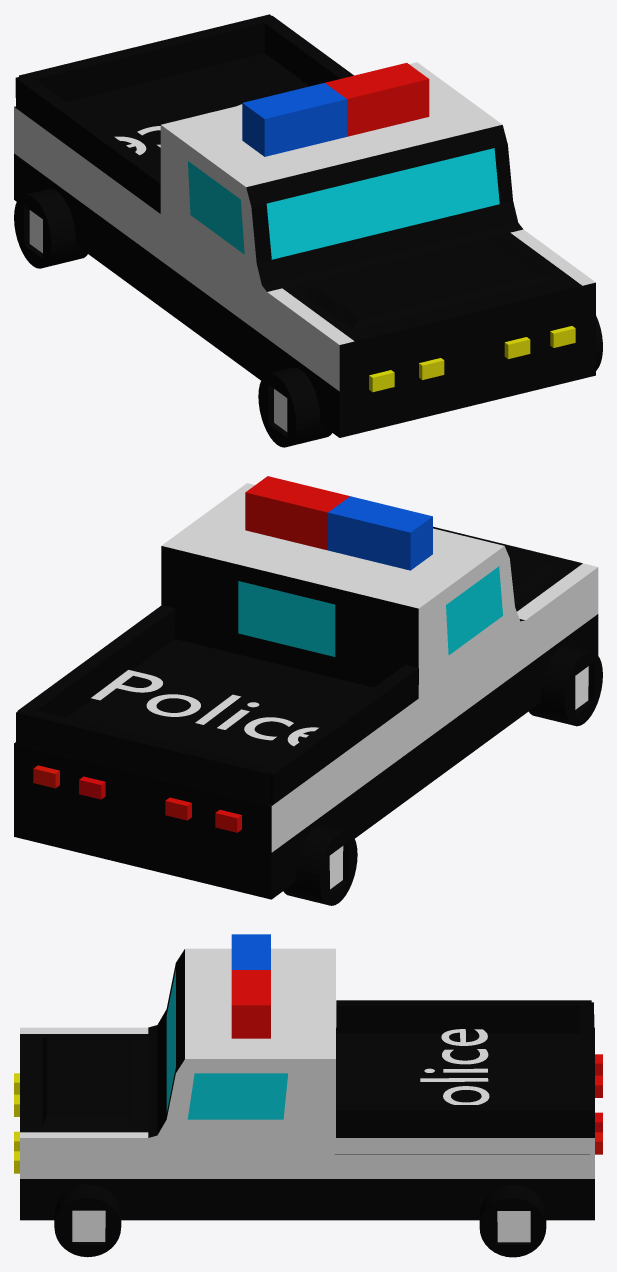
Rendered from police pick-up truck .fbx.
3 views of the same model, one above another, from view 1: azimuth 30°, elevation 25°; view 2: azimuth 150°, elevation 25°; view 3: azimuth 270°, elevation 25° (orthographic). The views are drawn at different scales.
Parts seen in each view (by area): view 1: Cube, Cube.012, Cube.003, Cube.001, Cylinder, Cylinder.003, Cube.002; view 2: Cube, Cube.003, Cube.001, Cube.002, Cylinder.003, Cylinder, Text, Cube.012; view 3: Cube, Cube.002, Cube.001, Cube.012, Cylinder.001, Cylinder.002, Text, Cube.003.
Boxes of the visible parts, left/top/right/bottom form: Cube: left=14, top=53, right=595, bottom=437; Cube.012: left=302, top=241, right=554, bottom=329; Cube.003: left=19, top=14, right=271, bottom=101; Cube.001: left=15, top=74, right=160, bottom=213; Cylinder: left=258, top=367, right=331, bottom=447; Cylinder.003: left=14, top=188, right=87, bottom=268; Cube.002: left=264, top=16, right=353, bottom=86; Cube: left=14, top=476, right=598, bottom=899; Cube.003: left=16, top=710, right=272, bottom=804; Cube.001: left=261, top=664, right=418, bottom=804; Cube.002: left=18, top=605, right=175, bottom=717; Cylinder.003: left=283, top=825, right=357, bottom=905; Cylinder: left=529, top=645, right=602, bottom=726; Text: left=91, top=670, right=318, bottom=746; Cube.012: left=508, top=554, right=559, bottom=602; Cube: left=20, top=934, right=594, bottom=1220; Cube.002: left=335, top=1105, right=589, bottom=1154; Cube.001: left=336, top=1000, right=591, bottom=1033; Cube.012: left=42, top=1037, right=131, bottom=1125; Cylinder.001: left=479, top=1184, right=546, bottom=1257; Cylinder.002: left=54, top=1184, right=121, bottom=1257; Text: left=420, top=1029, right=489, bottom=1104; Cube.003: left=580, top=1002, right=594, bottom=1137.
Size of the model in its own units: 444 by 345 by 832.
